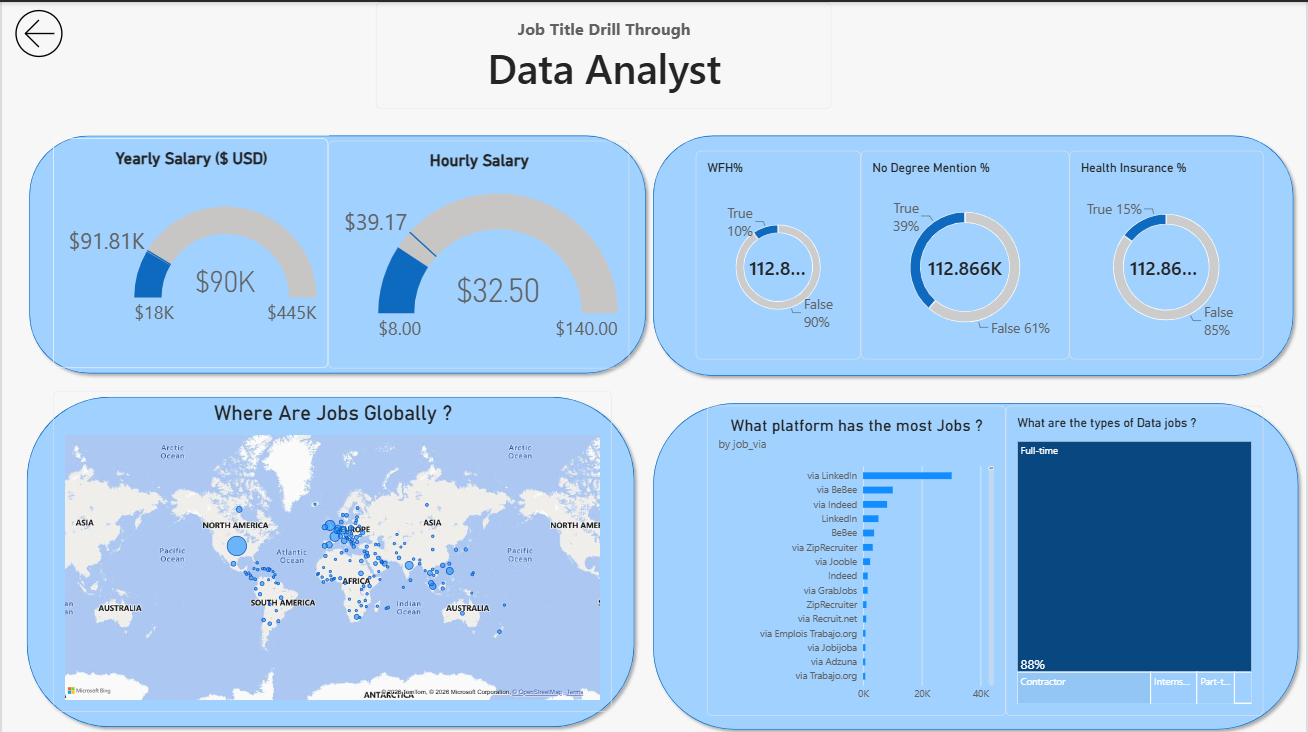

The dashboard page shown, as its layout file describes it:
{"tool":"powerbi","page":{"name":"Job Title Drill through ","canvas":[1920,1080],"ordinal":1},"visuals":[{"type":"shape","box":[32.1,188.2,925.8,368.1],"z":0,"group":"g1"},{"type":"group","id":"g1","title":"Background","box":[27.7,187.8,1890.9,893.1],"z":500},{"type":"cardVisual","fields":{"Data":["Min(job_postings_flat.job_title_short)1"]},"box":[550.3,0,671.8,158.3],"z":750},{"type":"actionButton","box":[0,0,108.6,92],"z":1000},{"type":"shape","box":[950.4,187.8,960.7,371.8],"z":1000,"group":"g1"},{"type":"gauge","title":"Yearly Salary ($ USD)","fields":{"MaxValue":["Max(job_postings_flat.salary_year_avg)"],"MinValue":["Min(job_postings_flat.salary_year_avg)"],"TargetValue":["Avg(job_postings_flat.salary_year_avg)1"],"Y":["Median(job_postings_flat.salary_year_avg)"]},"box":[75.5,200.6,404.9,338.7],"z":2000},{"type":"shape","box":[27.7,572.6,912.6,504.1],"z":2000,"group":"g1"},{"type":"gauge","title":"Hourly Salary ","fields":{"MaxValue":["Max(job_postings_flat.salary_hour_avg)2"],"MinValue":["Min(job_postings_flat.salary_hour_avg)1"],"TargetValue":["Avg(job_postings_flat.salary_hour_avg)"],"Y":["Median(job_postings_flat.salary_hour_avg)"]},"box":[480.4,204.3,443.6,335],"z":3000},{"type":"shape","box":[950.5,582.1,968.1,498.8],"z":3000,"group":"g1"},{"type":"donutChart","title":"No Degree Mention %","fields":{"Category":["job_postings_flat.job_no_degree_mention"],"Y":["CountNonNull(job_postings_flat.job_no_degree_mention)"]},"box":[1264.4,219,307.4,307.4],"z":4000},{"type":"donutChart","title":"Health Insurance %","fields":{"Category":["job_postings_flat.job_health_insurance"],"Y":["CountNonNull(job_postings_flat.job_health_insurance)"]},"box":[1571.8,219,285.3,307.4],"z":5000},{"type":"donutChart","title":"WFH%","fields":{"Category":["job_postings_flat.job_work_from_home"],"Y":["CountNonNull(job_postings_flat.job_work_from_home)"]},"box":[1021.5,219,242.9,307.4],"z":6000},{"type":"map","title":"Where Are Jobs Globally ?","fields":{"Category":["job_postings_flat.job_country"],"Size":["CountNonNull(job_postings_flat.job_title_short)"]},"box":[75.5,572.4,822.7,473],"z":7000},{"type":"treemap","title":"What are the types of Data jobs ?","fields":{"Group":["job_postings_flat.job_schedule_type"],"Values":["CountNonNull(job_postings_flat.job_schedule_type)"]},"box":[1477.9,594.5,379.1,456.4],"z":8000},{"type":"barChart","fields":{"Category":["job_postings_flat.job_via"],"Y":["CountNonNull(job_postings_flat.job_via)"]},"box":[1038,594.5,439.9,456.4],"z":9000}]}

Visuals, with their boxes in screenshot pixels (x1, y1, x2, y2), scaled from the page's 1920x1080 canvas onto the 1308x732 screenshot:
shape: [22,128,653,377]
"Background" group: [19,127,1307,731]
cardVisual - Min(job_postings_flat.job_title_short)1: [375,0,833,107]
actionButton: [0,0,74,62]
shape: [647,127,1302,379]
"Yearly Salary ($ USD)" gauge: [51,136,327,366]
shape: [19,388,641,730]
"Hourly Salary " gauge: [327,138,629,366]
shape: [648,395,1307,731]
"No Degree Mention %" donutChart: [861,148,1071,357]
"Health Insurance %" donutChart: [1071,148,1265,357]
"WFH%" donutChart: [696,148,861,357]
"Where Are Jobs Globally ?" map: [51,388,612,709]
"What are the types of Data jobs ?" treemap: [1007,403,1265,712]
barChart - job_postings_flat.job_via x CountNonNull(job_postings_flat.job_via): [707,403,1007,712]
